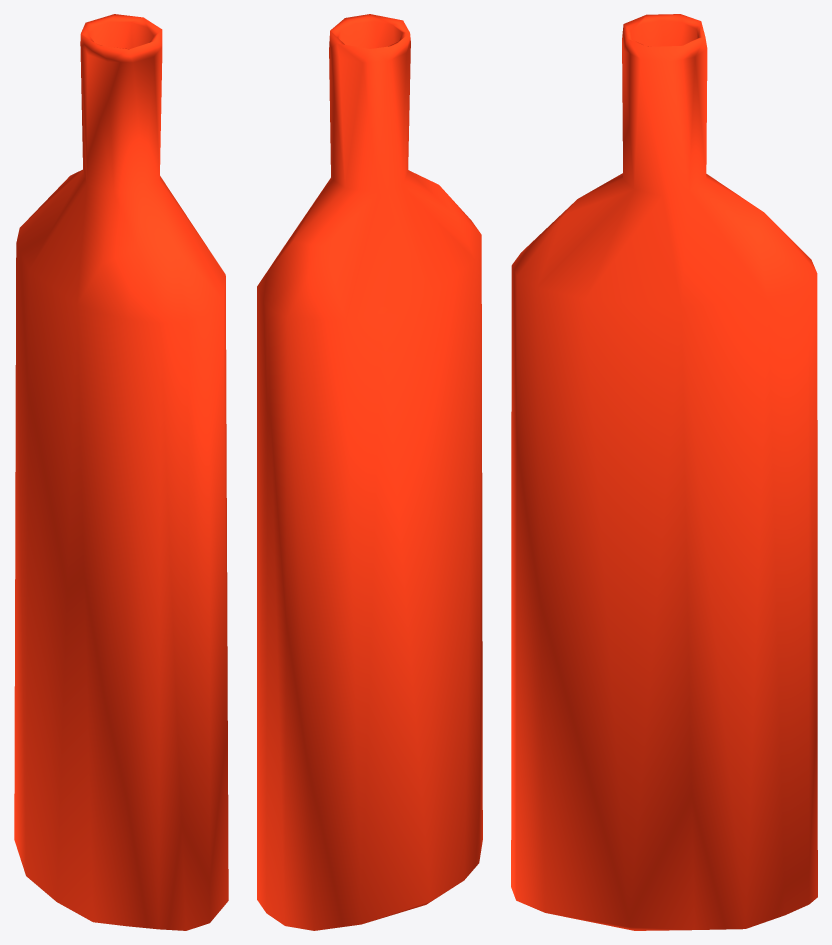
File: 1dadfd88-fbec-4d6d-8796-38c54ef53dd4.glb
The picture shows the model from 3 angles, left to right: view 1: azimuth 30°, elevation 25°; view 2: azimuth 150°, elevation 25°; view 3: azimuth 270°, elevation 25°; orthographic projection. The views are drawn at different scales.
Visible parts, largest first — view 1: GlassBottle.004; view 2: GlassBottle.004; view 3: GlassBottle.004.
Boxes of the visible parts, x1,y1,x2,y2 form: GlassBottle.004: (14, 14, 228, 930); GlassBottle.004: (257, 14, 482, 930); GlassBottle.004: (511, 14, 817, 930).
Size of the model in its own units: 0.0696 by 0.3523 by 0.1132.
1 material, 1 textured.
